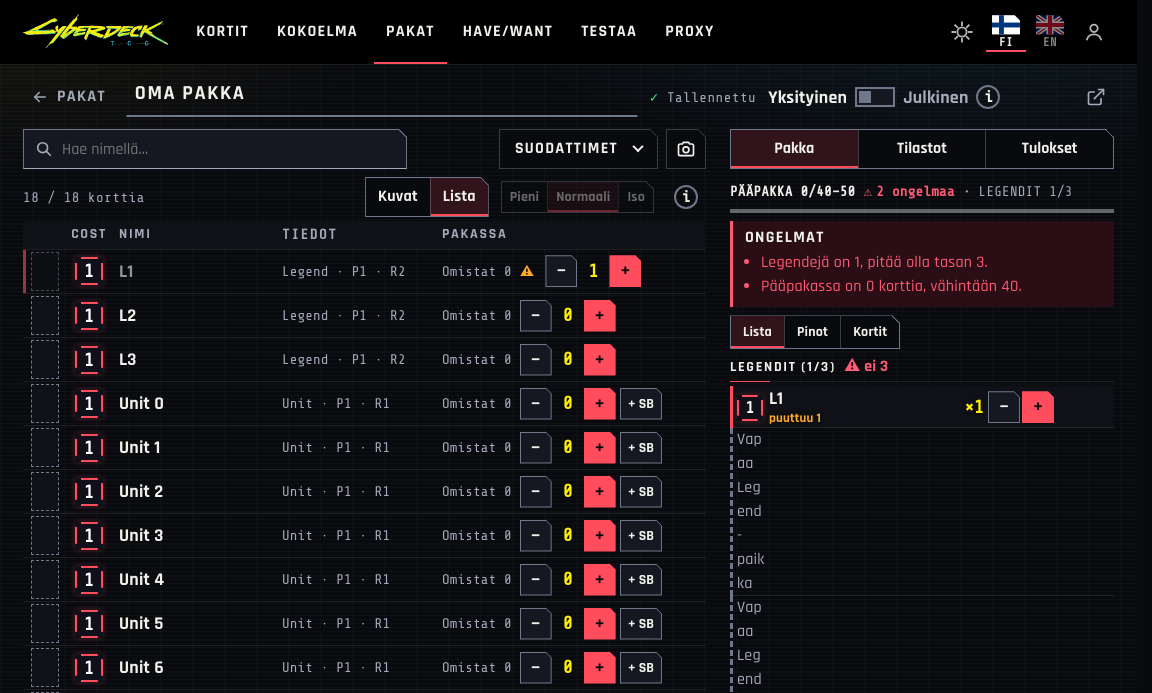
Test: Legends as a section like the main deck (T-103) › shows the Legends as cards with their own controls in the stacks view
Click the radio button labelled "Pinot": (812, 332) [784,316,840,348]
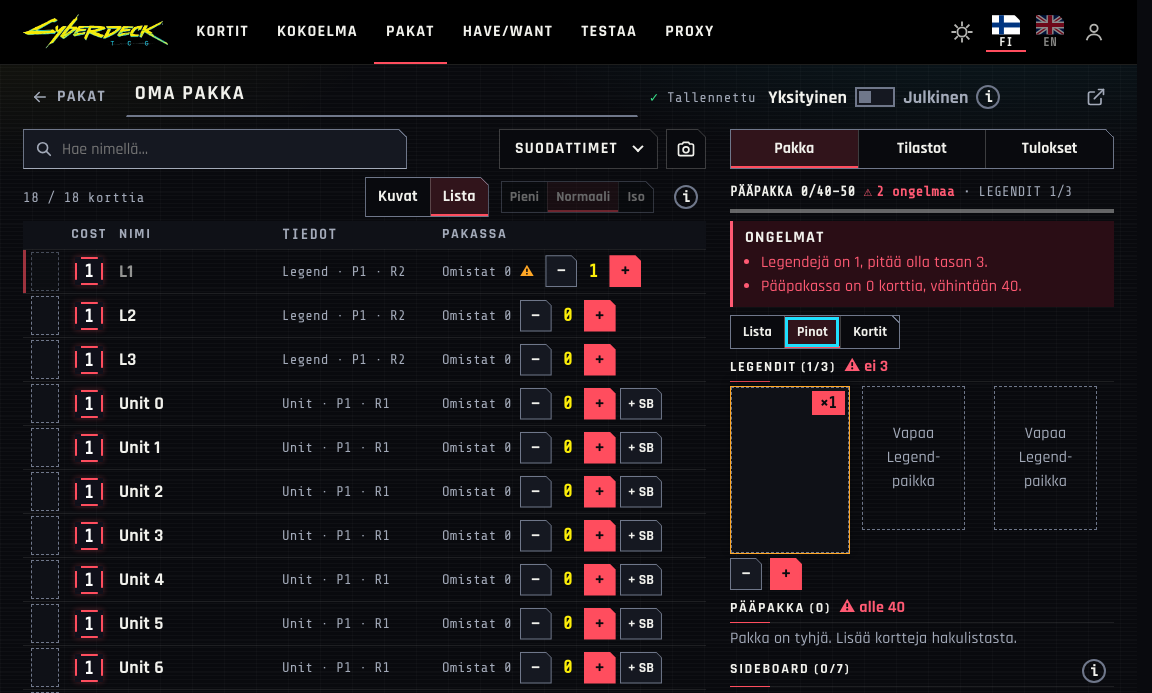
Expected: the button named "Suurenna kuva: L1, 1 pakassa" is shown, [730,386,850,554]
Expected: the text "Vapaa Legend-paikka" is shown 2 times, [887,423,940,492]; [1019,423,1072,492]
Click the button named "Poista pakasta: L1": (746, 574) [730,558,762,590]
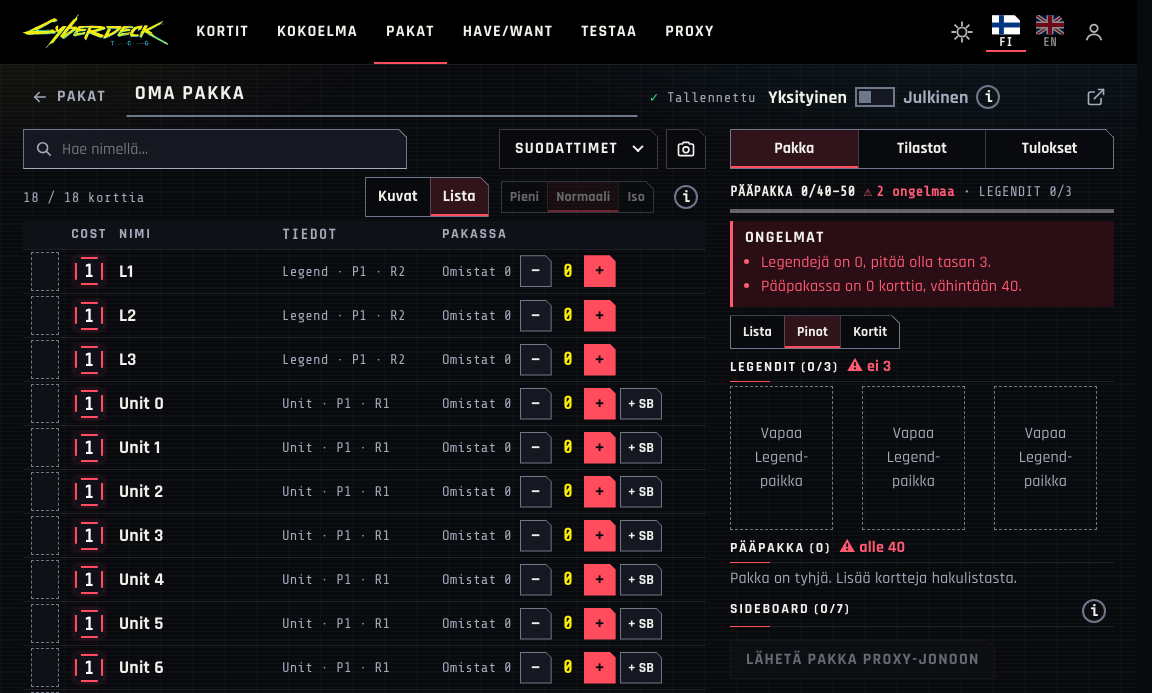
Expected: the text "Vapaa Legend-paikka" is shown 3 times, [755,423,808,492]; [887,423,940,492]; [1019,423,1072,492]
